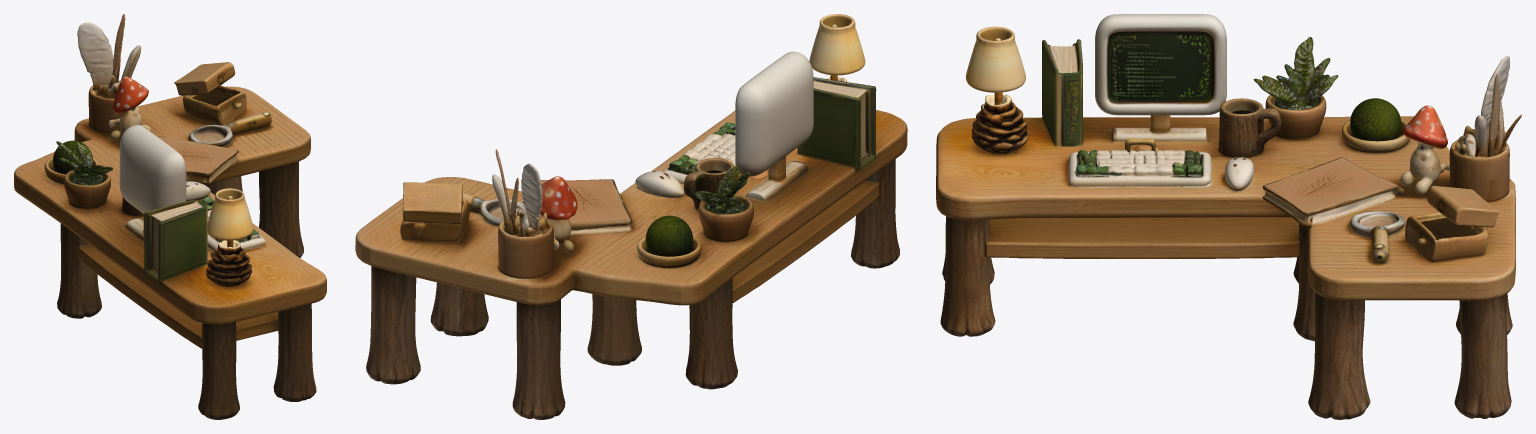
File: C03-木制桌面3d模型.glb
3 renders of one model, left to right at view 1: azimuth 30°, elevation 25°; view 2: azimuth 150°, elevation 25°; view 3: azimuth 270°, elevation 25°, orthographic. The views are drawn at different scales.
Visible parts, largest first — view 1: tripo_node_01d01cc6-cdec-43d6-b0ff-bfb3aff33d82; view 2: tripo_node_01d01cc6-cdec-43d6-b0ff-bfb3aff33d82; view 3: tripo_node_01d01cc6-cdec-43d6-b0ff-bfb3aff33d82.
Boxes of the visible parts, x1=… form: tripo_node_01d01cc6-cdec-43d6-b0ff-bfb3aff33d82: x1=14, y1=14, x2=326, y2=419; tripo_node_01d01cc6-cdec-43d6-b0ff-bfb3aff33d82: x1=355, y1=14, x2=907, y2=419; tripo_node_01d01cc6-cdec-43d6-b0ff-bfb3aff33d82: x1=936, y1=14, x2=1521, y2=419.
Bounding box in the file's own units: 0.6704 × 0.5254 × 1.
1 material, 1 textured.
